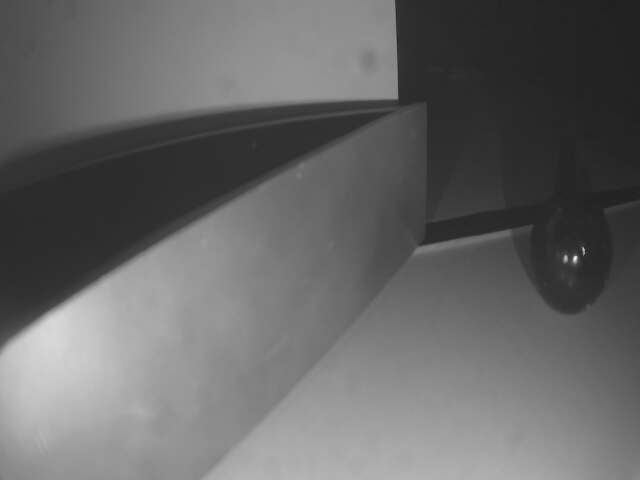Dead: (531, 193, 613, 315)
Green: (0, 103, 429, 480)
